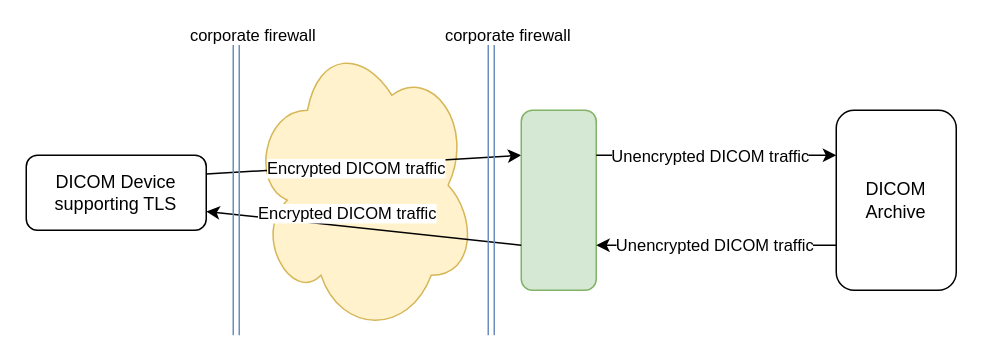
This 983x362 diagram has some shape labels left out. Each missing label, with the centre of its shape:
"Internet" goes at [363,184].
"Nginx" goes at [558,199].
